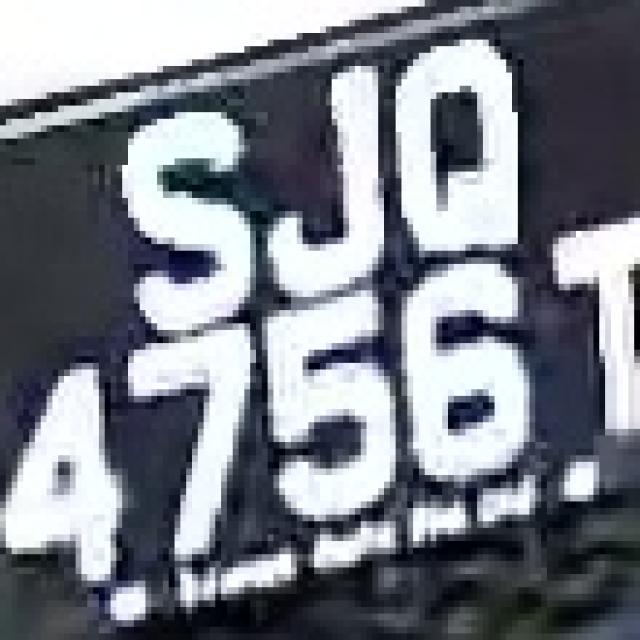4: (0, 330, 134, 600)
5: (250, 303, 396, 528)
6: (384, 257, 553, 508)
7: (116, 317, 256, 574)
J: (256, 33, 401, 310)
Q: (378, 13, 547, 264)
S: (99, 86, 268, 310)
